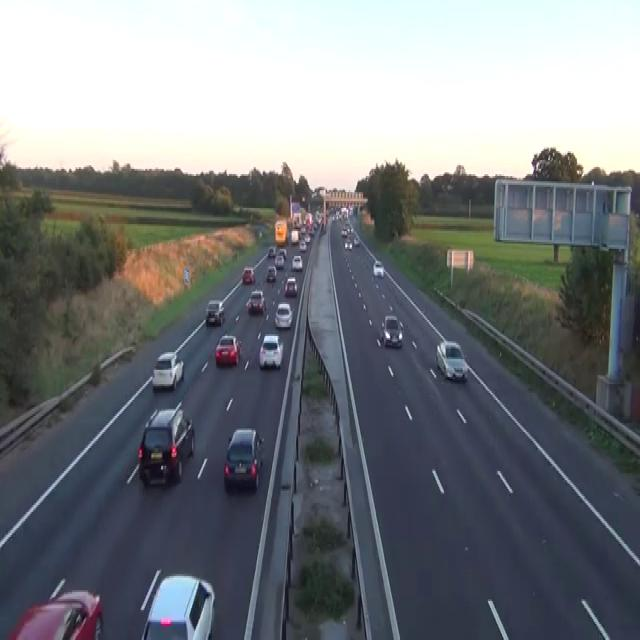Car: (8, 578, 103, 638), (140, 571, 215, 638), (137, 402, 195, 485), (223, 426, 264, 491), (436, 340, 468, 382), (152, 350, 184, 390), (258, 332, 283, 368), (215, 334, 241, 366), (380, 314, 403, 346), (205, 299, 225, 325), (274, 302, 293, 329), (246, 290, 266, 313), (284, 275, 297, 297), (242, 266, 255, 282), (372, 260, 383, 278), (291, 254, 302, 270), (266, 265, 276, 281), (274, 254, 284, 268), (290, 230, 299, 243), (267, 245, 275, 258), (279, 247, 287, 260), (299, 240, 306, 251), (344, 240, 352, 249), (320, 222, 326, 233), (353, 237, 360, 246), (304, 233, 310, 242), (341, 228, 347, 236), (309, 226, 315, 234), (348, 224, 353, 233)
Truck: (274, 218, 287, 244)
